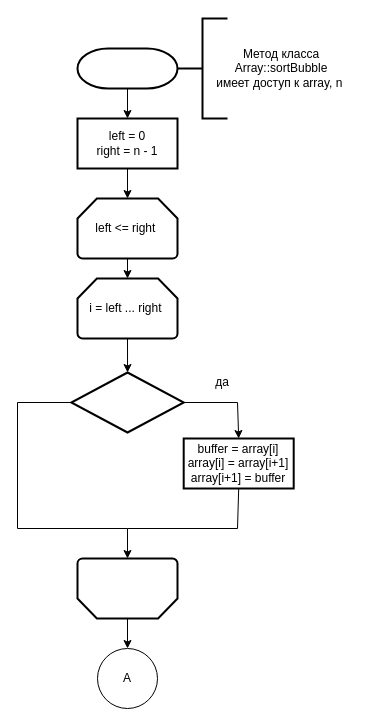
Some shapes in this 369 by 726 pixel diagram are drawn without their labels. Here are the shapes that lost their labels. From the top down, the box of each, then its label:
(76, 47, 178, 89): Начало sortShaker
(70, 371, 184, 433): array[i] > array[i + 1]
(76, 557, 178, 619): Конец цикла по i
